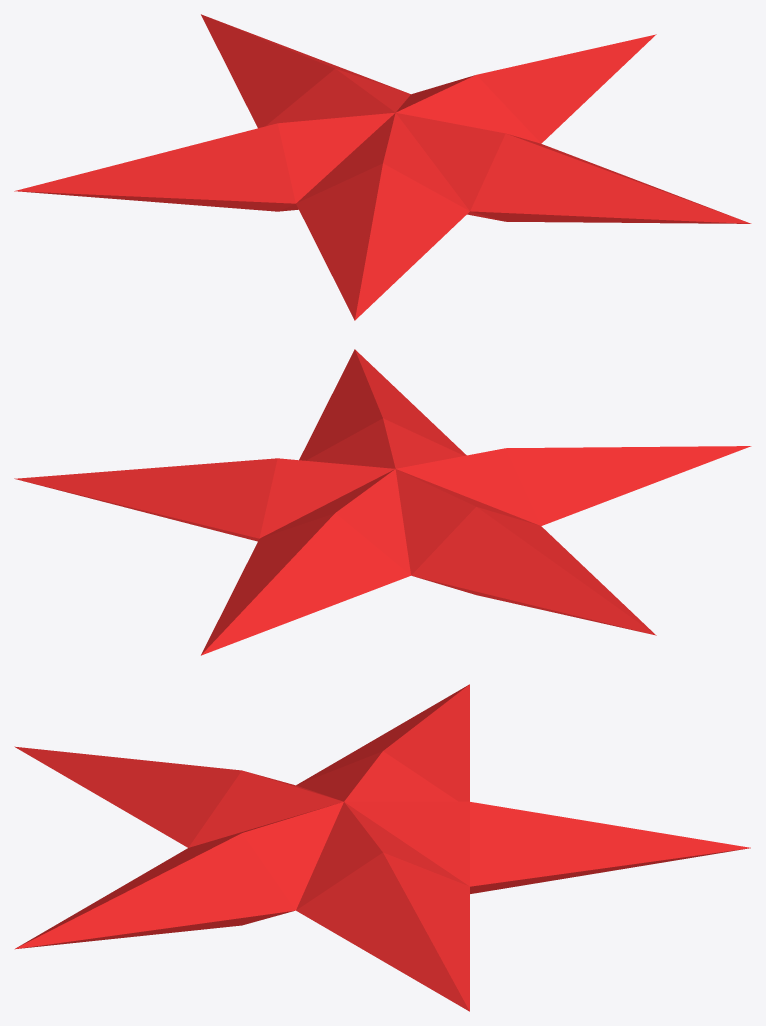
File: star.glb
3 views of the same model, one above another, from view 1: azimuth 30°, elevation 25°; view 2: azimuth 150°, elevation 25°; view 3: azimuth 270°, elevation 25° (orthographic). The views are drawn at different scales.
Parts seen in each view (by area): view 1: Цилиндр; view 2: Цилиндр; view 3: Цилиндр.
Boxes of the visible parts, bbox=[...] form: Цилиндр: bbox=[14, 14, 751, 320]; Цилиндр: bbox=[14, 349, 751, 655]; Цилиндр: bbox=[14, 684, 750, 1011].
Bounding box in the file's own units: 1.9 × 0.25 × 1.81.
